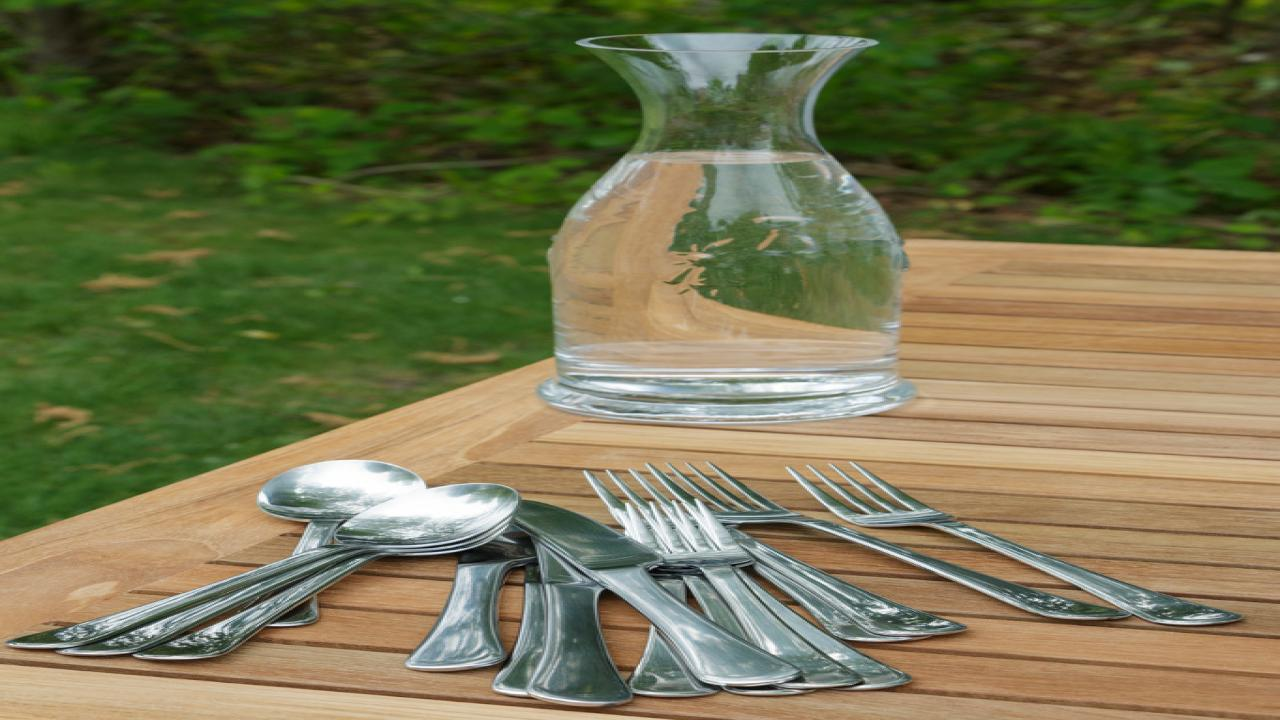fork: (776, 456, 1248, 629), (592, 472, 870, 690)
